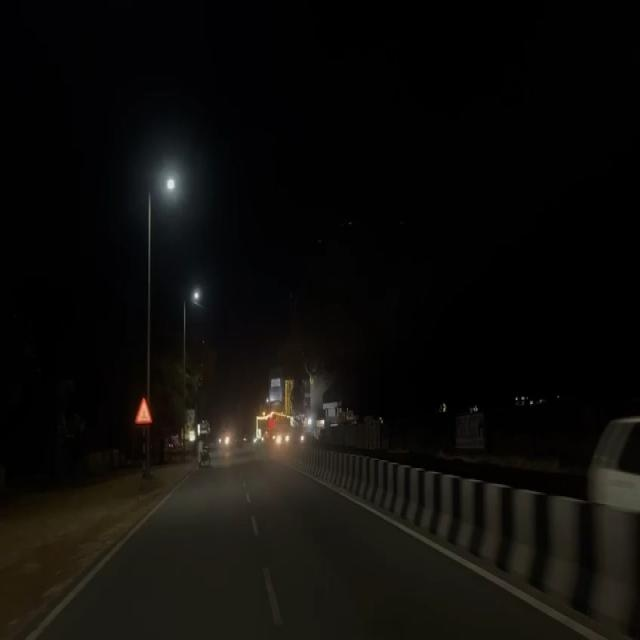bien_nguy_hiem: (135, 392, 152, 430)
